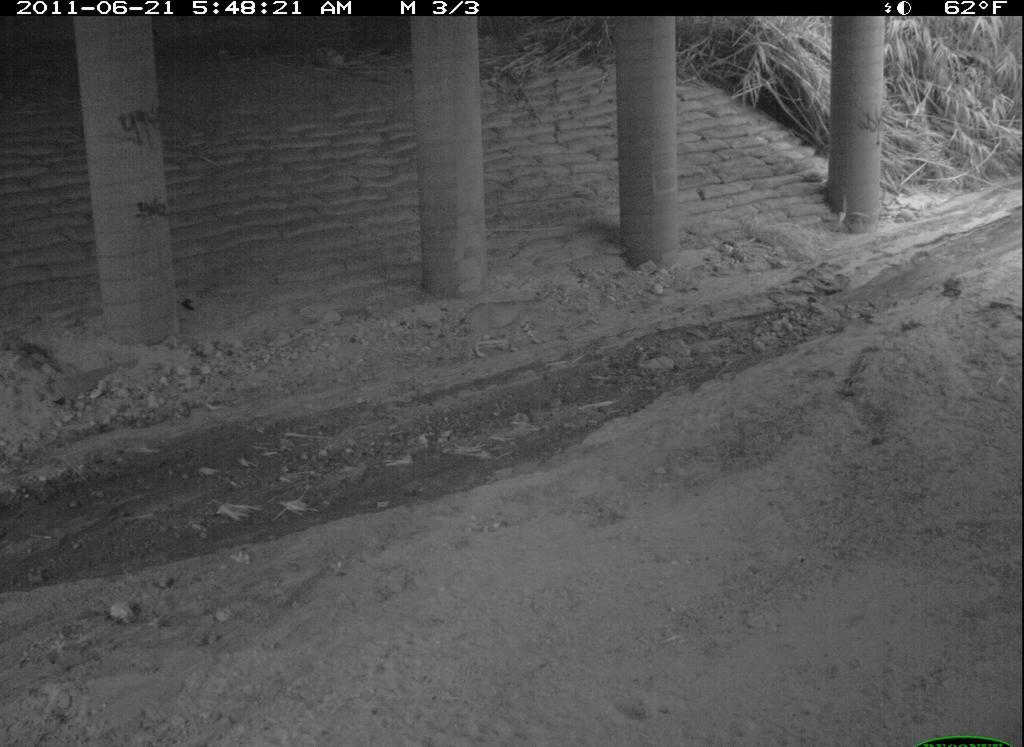bobcat: (904, 583, 1024, 738)
